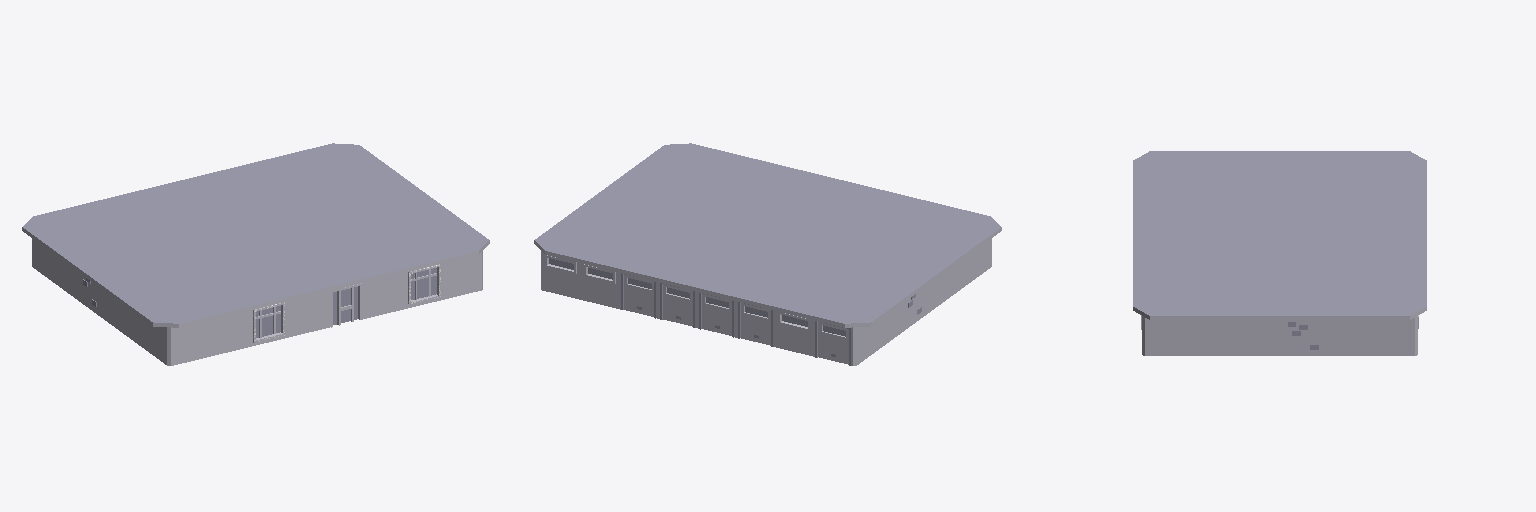
The model's file is building5.obj.
3 views of the same model, side by side, from view 1: azimuth 30°, elevation 25°; view 2: azimuth 150°, elevation 25°; view 3: azimuth 270°, elevation 25° (orthographic).
Size of the model in its own units: 8.66 by 1.1 by 6.53.